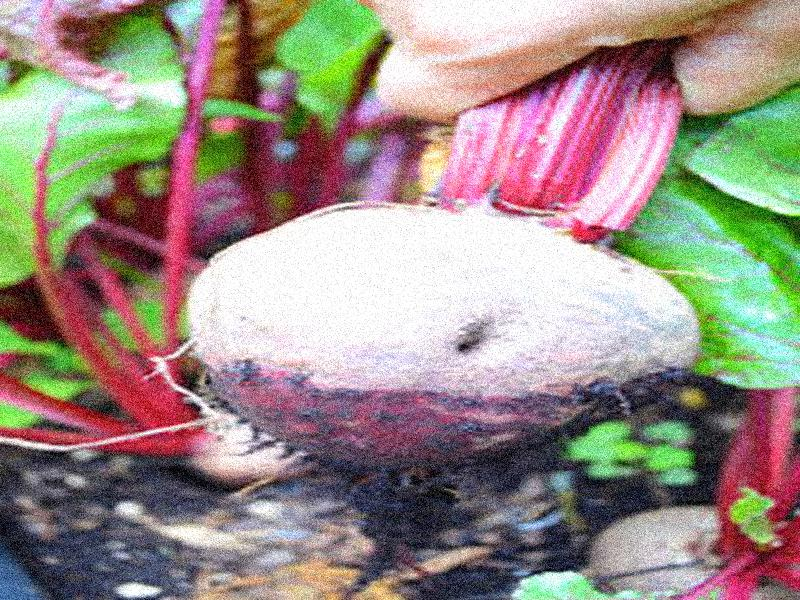Beet: (183, 39, 698, 600)
